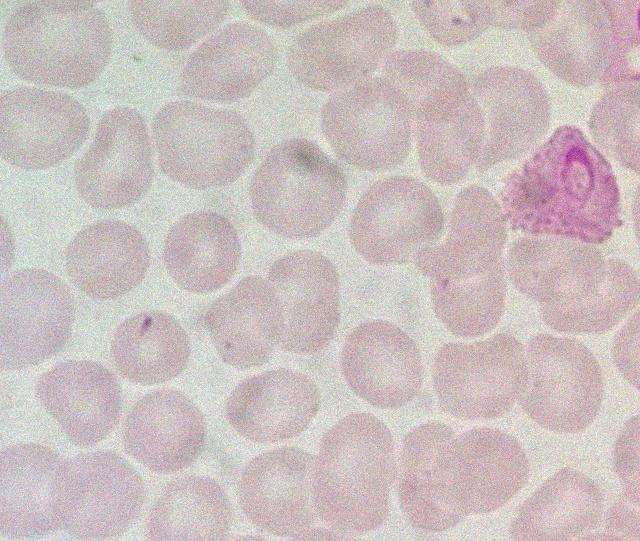Infected: (499, 125, 620, 241)
Uninfected: (512, 236, 632, 334), (306, 415, 401, 534), (249, 138, 346, 242), (321, 78, 422, 172), (288, 6, 398, 92), (429, 420, 528, 515), (153, 100, 256, 191), (5, 3, 112, 89), (399, 75, 485, 180), (45, 448, 145, 538), (516, 333, 604, 435), (431, 333, 529, 424), (74, 105, 157, 209), (349, 175, 444, 264), (465, 65, 549, 165), (260, 251, 342, 352), (236, 445, 326, 537), (204, 275, 291, 368), (179, 21, 276, 103), (340, 319, 425, 410), (1, 86, 91, 171), (39, 358, 124, 447), (2, 268, 75, 371), (530, 1, 620, 84), (225, 367, 320, 445), (121, 386, 207, 470), (66, 218, 152, 301), (399, 416, 460, 532), (162, 210, 242, 294), (3, 440, 71, 537), (428, 260, 508, 339), (433, 186, 506, 271), (113, 309, 192, 382), (379, 51, 466, 110), (147, 478, 231, 539)
